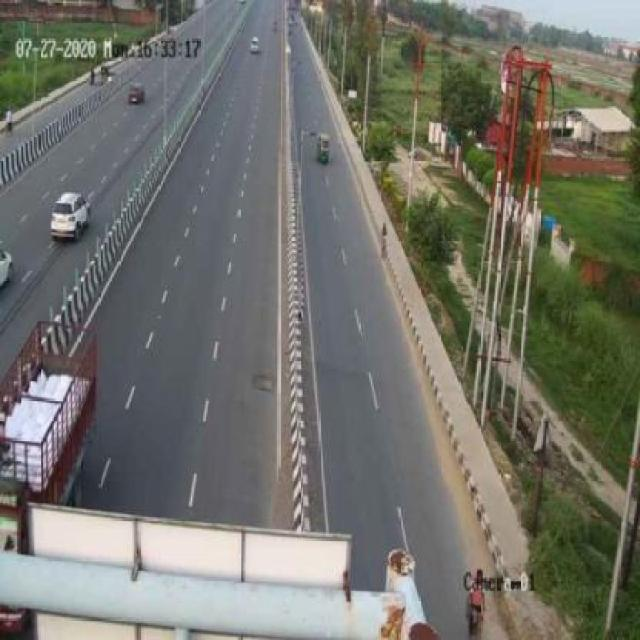car: (54, 191, 91, 243), (243, 34, 263, 55)
